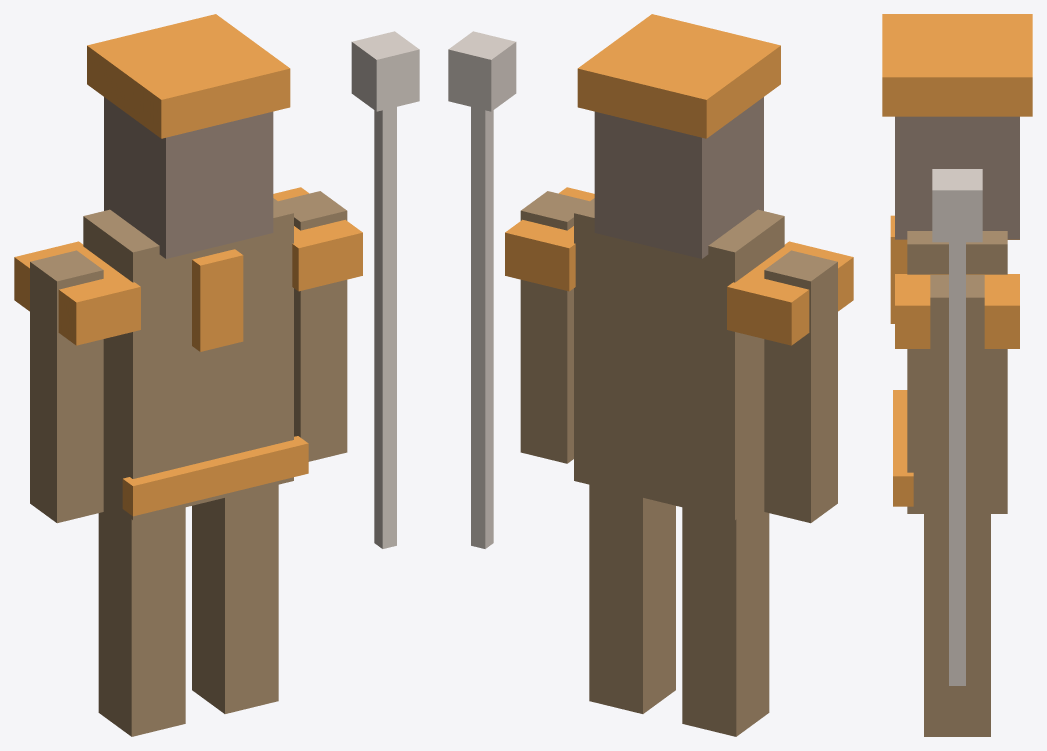
File: 18_brant_latchward_mechanist_from_echo.glb
3 views of the same model, side by side, from view 1: azimuth 30°, elevation 25°; view 2: azimuth 150°, elevation 25°; view 3: azimuth 270°, elevation 25° (orthographic).
Parts seen in each view (by area): view 1: Brant Latchward, Mechanist from Echo; view 2: Brant Latchward, Mechanist from Echo; view 3: Brant Latchward, Mechanist from Echo.
Boxes of the visible parts, bbox=[...] form: Brant Latchward, Mechanist from Echo: bbox=[14, 14, 419, 736]; Brant Latchward, Mechanist from Echo: bbox=[448, 14, 853, 736]; Brant Latchward, Mechanist from Echo: bbox=[882, 14, 1032, 736].
Bounding box in the file's own units: 0.9879 × 1.69 × 0.3504.
